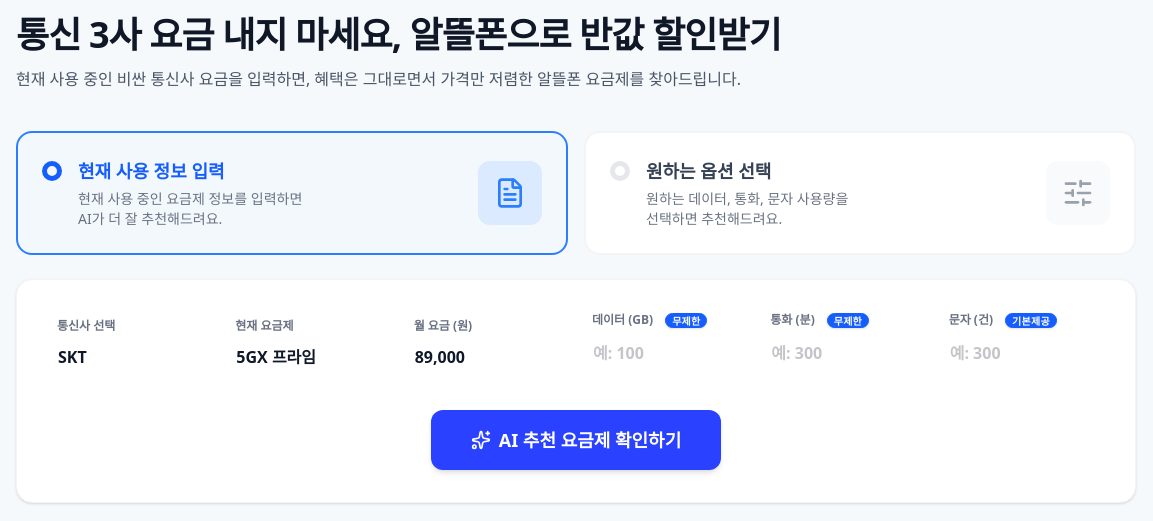
Scenario: DiagnosticForm component › toggles unlimited checkboxes
The image size is (1153, 521).
Step 1. Click the checkbox labelled "무제한" next to "데이터 (GB)" → coordinates (686, 320), box left=665, top=312, right=708, bottom=328
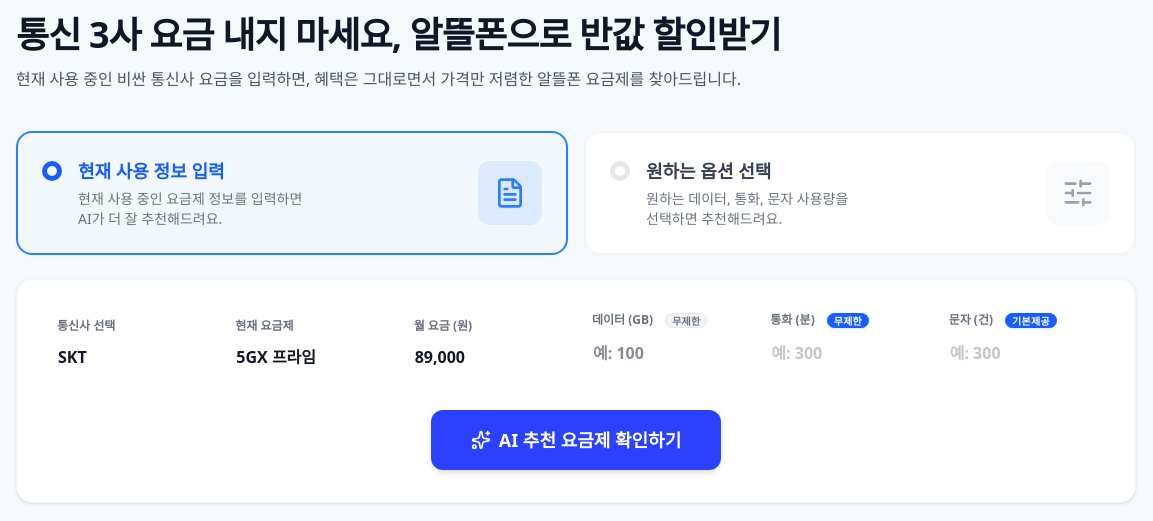
Step 2. Click the checkbox labelled "무제한" next to "통화 (분)" → coordinates (848, 320), box left=827, top=312, right=869, bottom=328
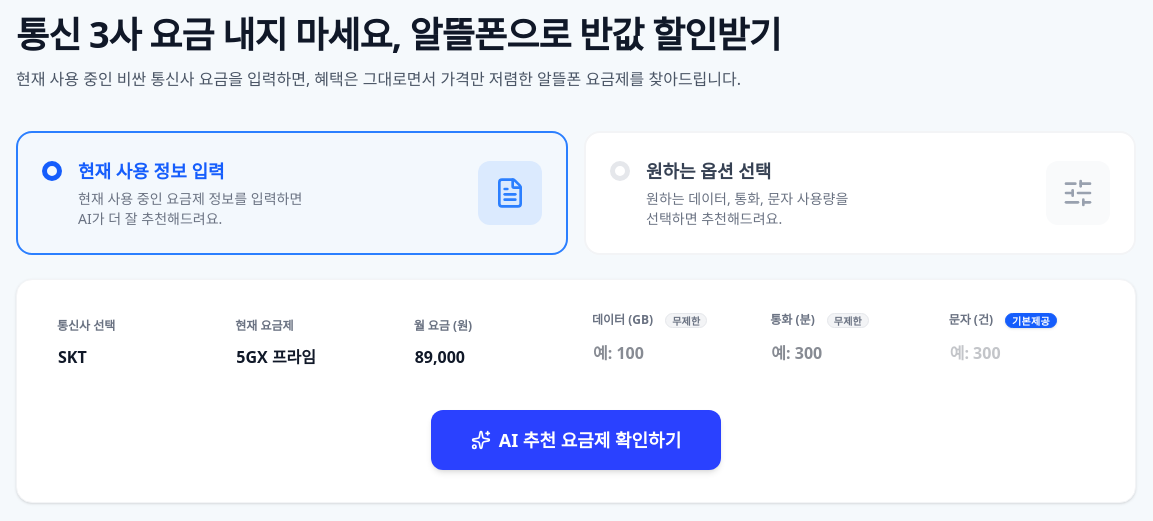
Step 3. Click the checkbox labelled "기본제공" → coordinates (1031, 320), box left=1005, top=312, right=1057, bottom=328
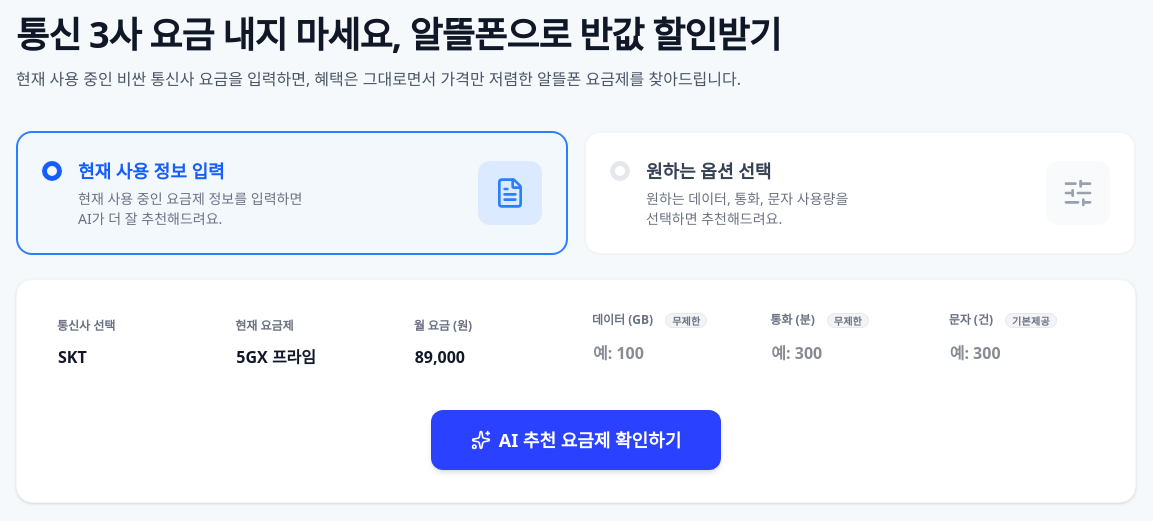
Result: the number field with placeholder "예: 100" is enabled at left=584, top=332, right=746, bottom=374
Result: the number field with placeholder "예: 300" below "통화 (분)" is enabled at left=762, top=332, right=925, bottom=374
Result: the number field with placeholder "예: 300" below "문자 (건)" is enabled at left=941, top=332, right=1103, bottom=374
